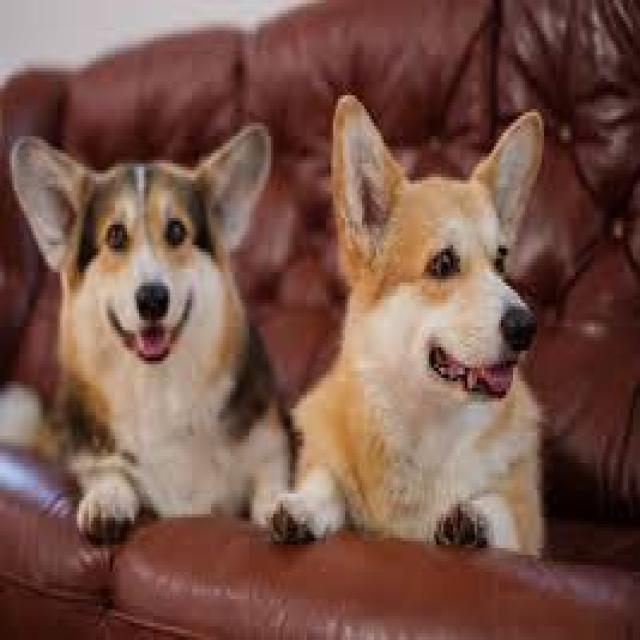CORGI: (274, 92, 571, 581), (12, 123, 293, 539)
